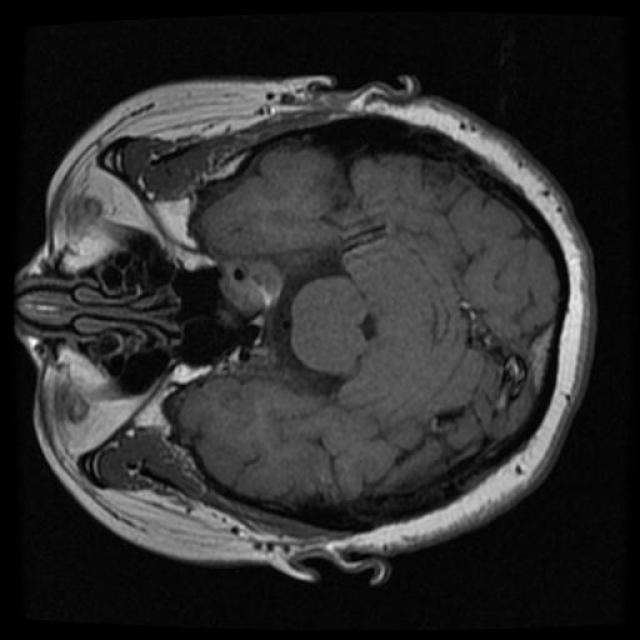Pituitary: (217, 257, 284, 362)
